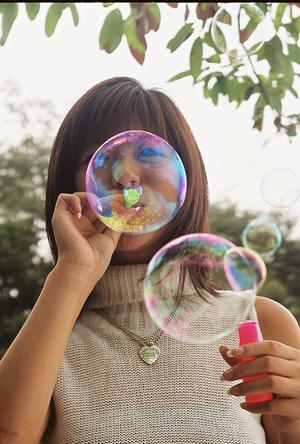person: (4, 76, 298, 444)
